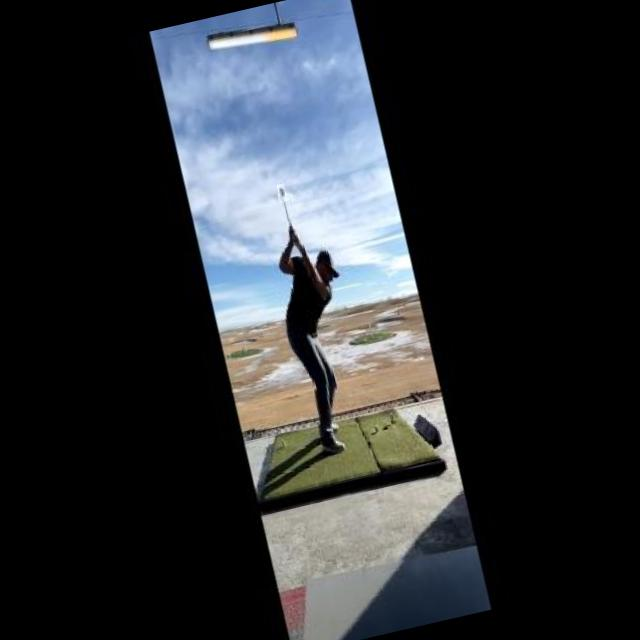club head: (276, 183, 288, 202)
